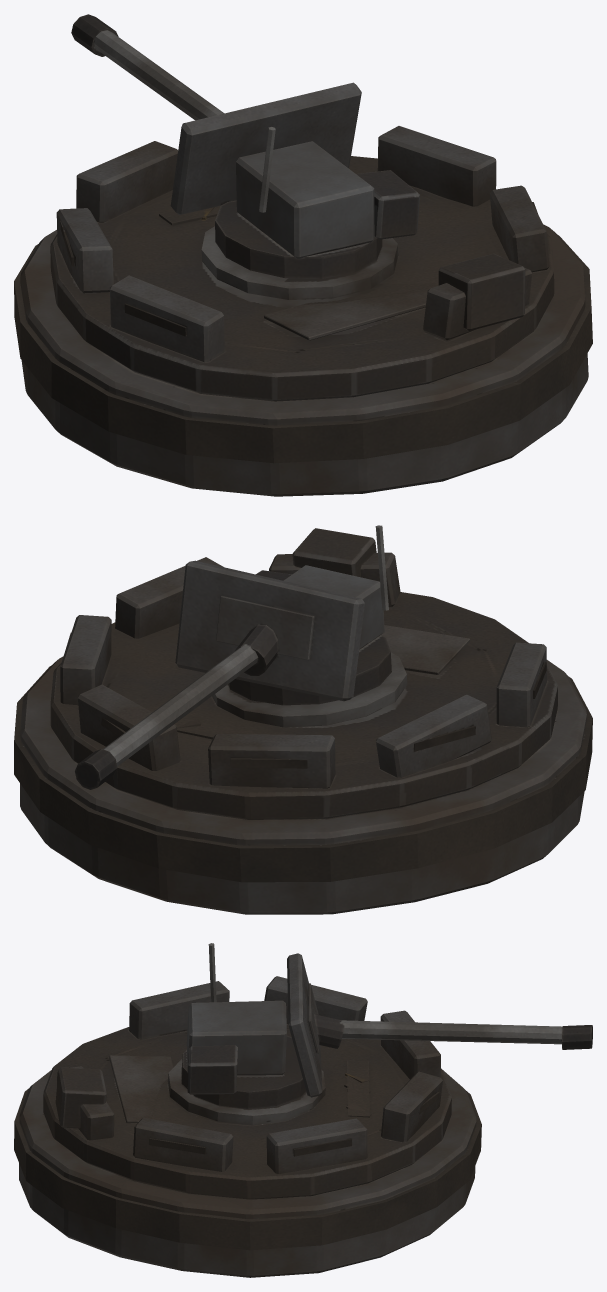
The model's file is chs_riptide_wreck.fbx.
3 renders of one model, top to bottom at view 1: azimuth 30°, elevation 25°; view 2: azimuth 150°, elevation 25°; view 3: azimuth 270°, elevation 25°, orthographic. The views are drawn at different scales.
Visible parts, largest first — view 1: base_bar, turret_bar; view 2: base_bar, turret_bar; view 3: base_bar, turret_bar.
Boxes of the visible parts, <box> form: base_bar: <box>14,126,592,496</box>; turret_bar: <box>71,14,419,278</box>; base_bar: <box>14,528,592,914</box>; turret_bar: <box>75,525,391,789</box>; base_bar: <box>14,976,481,1277</box>; turret_bar: <box>181,943,592,1108</box>.
Size of the model in its own units: 755 by 499 by 941.
Materials: 2 (2 with a texture image).
